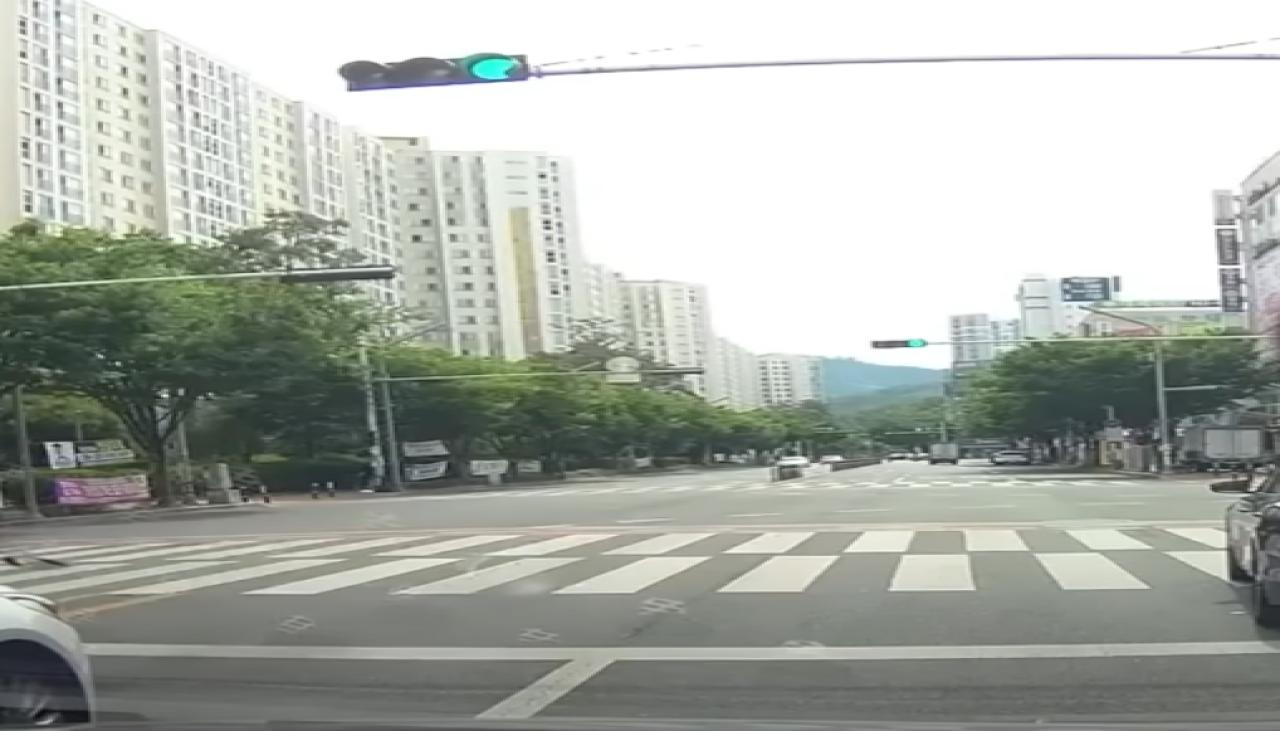Green Light: (463, 50, 528, 82), (906, 338, 926, 348)
